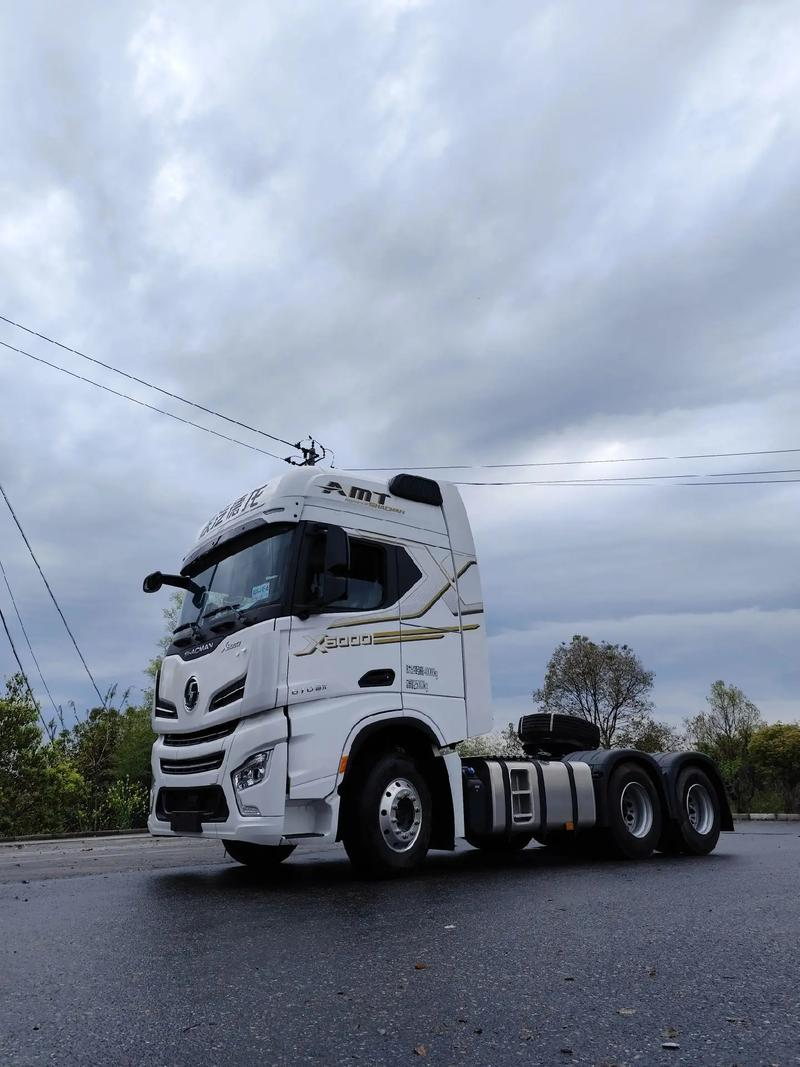卡车: (127, 456, 747, 895)
